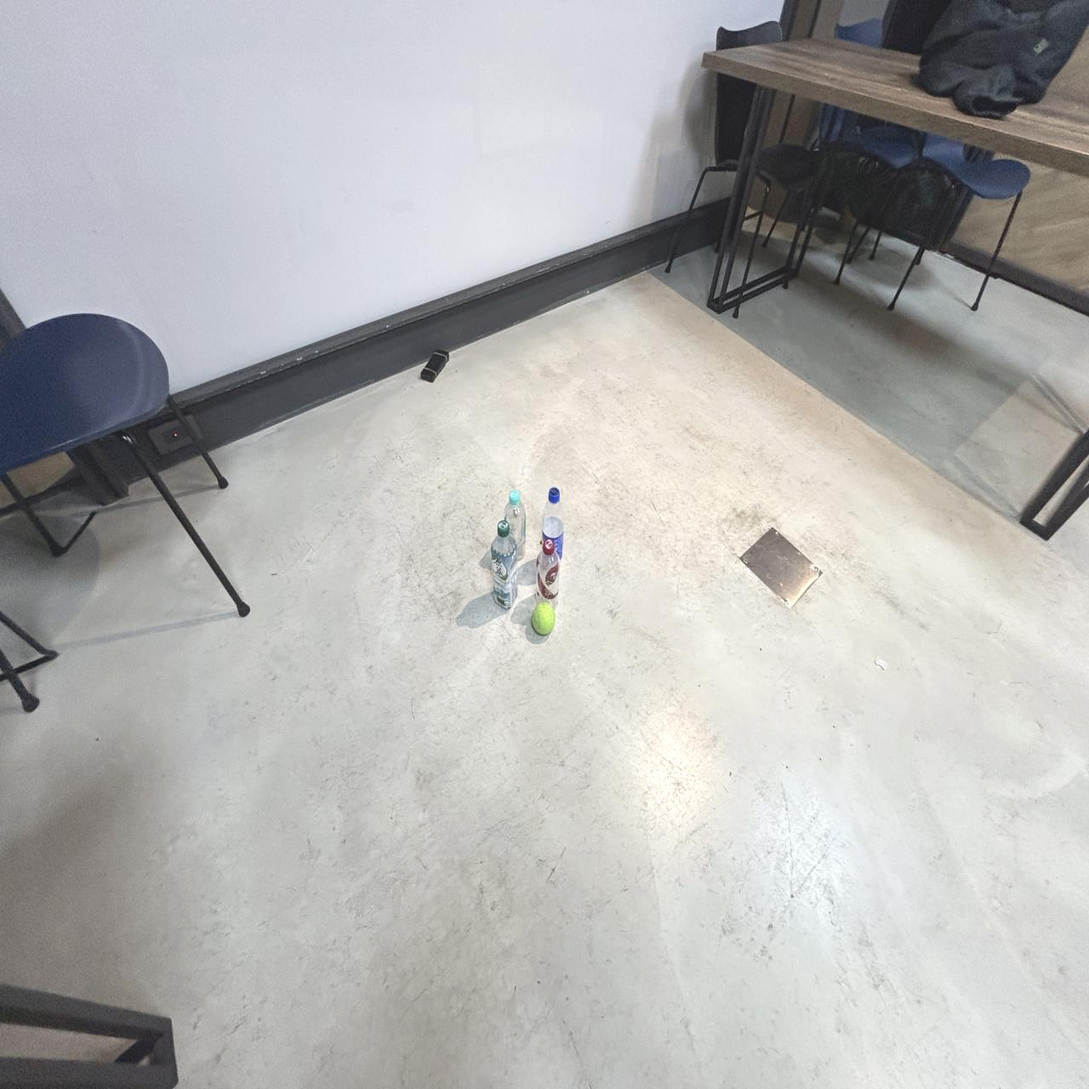plastic-bottle: (492, 520, 516, 608), (536, 538, 560, 607), (542, 487, 563, 558), (505, 491, 526, 559)
tennisball: (532, 602, 556, 636)
